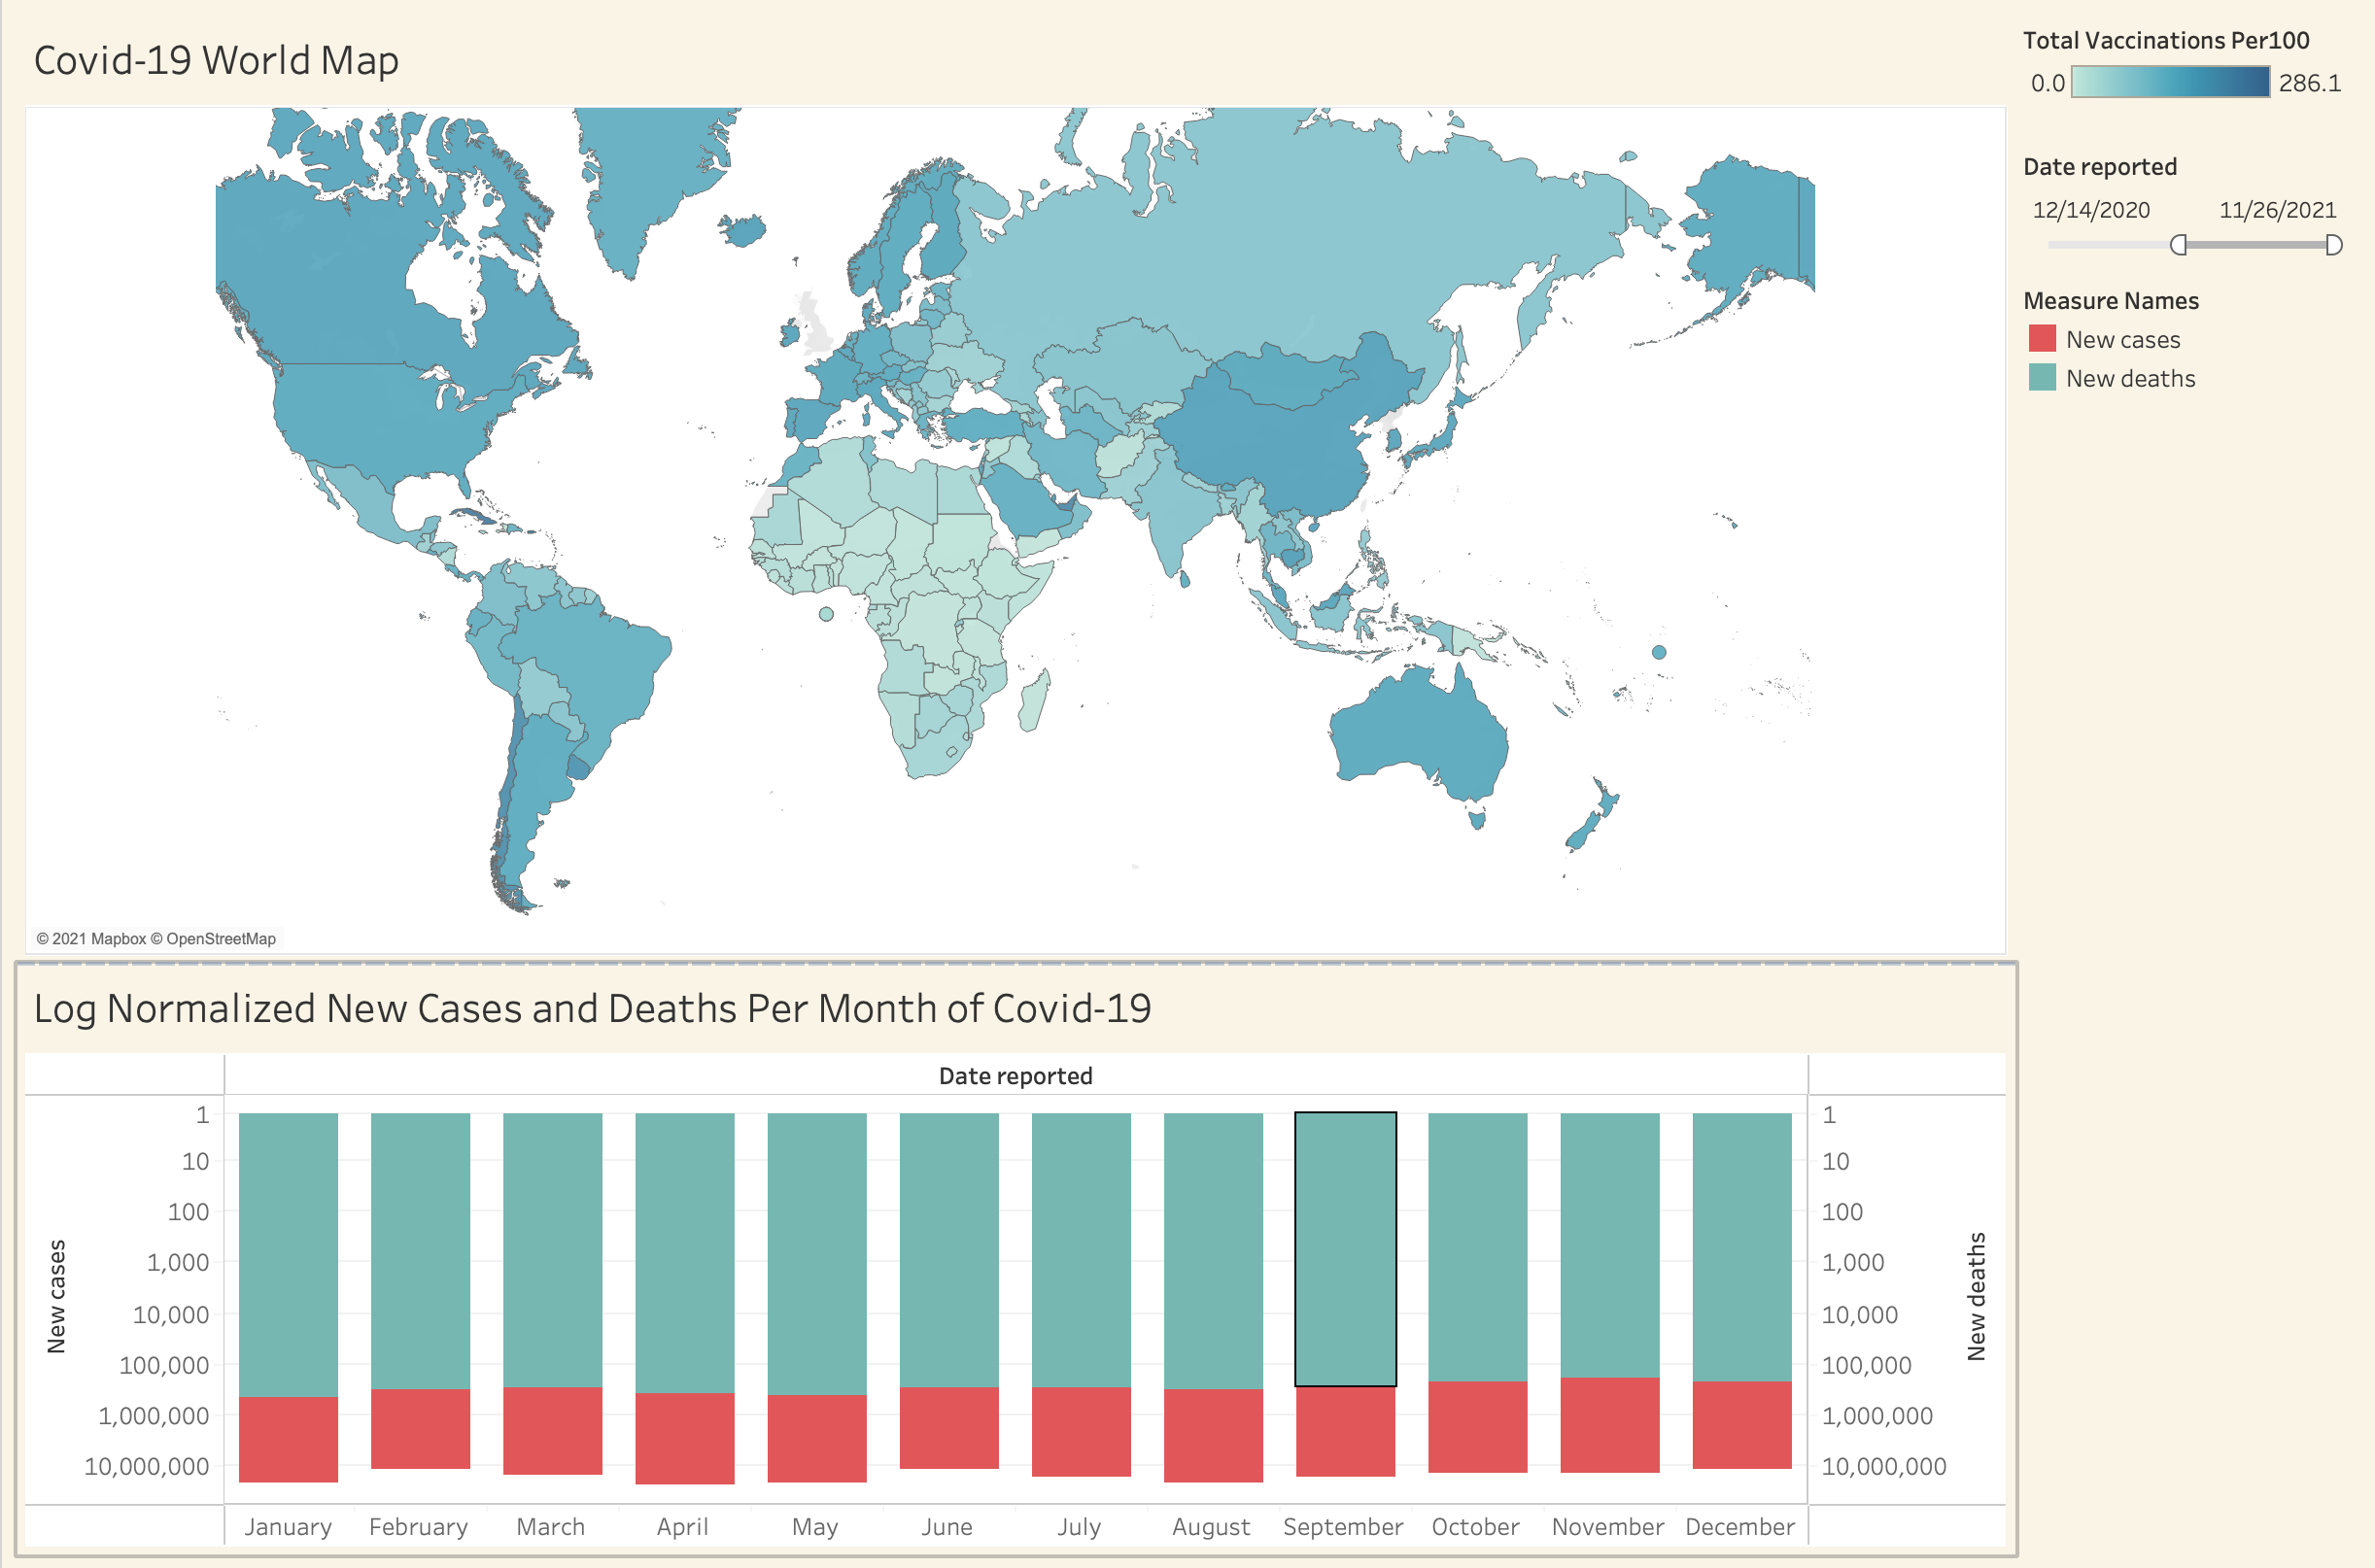

The dashboard page shown, as its layout file describes it:
{"tool":"tableau","page":{"name":"Dashboard 1","canvas":[1000,1000],"units":"permille","ordinal":0},"visuals":[{"type":"worksheet","title":"Sheet 1","mark":"Automatic","box":[6.5,9.9,843,603.9]},{"type":"legend","title":"Sheet 1","param":"[federated.1vvfp670pnrrzk1gov2pv14rkbml].[sum:TOTAL_VACCINATIONS_PER100:qk]","box":[849.5,9.9,144,80.4]},{"type":"filter","title":"Sheet 2","param":"[federated.1vvfp670pnrrzk1gov2pv14rkbml].[none:Date_reported:qk]","box":[849.5,90.3,144,85.4]},{"type":"legend","title":"Sheet 2","param":"[federated.1vvfp670pnrrzk1gov2pv14rkbml].[:Measure Names]","box":[849.5,175.7,144,81.7]},{"type":"worksheet","title":"Sheet 2","mark":"Bar","rows":["New_cases","New_deaths"],"cols":["Date_reported"],"box":[6.5,613.8,843,376.3]}]}

Visuals, with their boxes on the dashboard's canvas, which has no fixed pixel size, in thousandths of its width and height (x1, y1, x2, y2). These are canvas units, not pixel positions in the 2375x1568 screenshot, which may show the page scaled, cropped or inside an application window:
"Sheet 1" worksheet: l=6, t=10, r=850, b=614
"Sheet 1" legend: l=850, t=10, r=994, b=90
"Sheet 2" filter: l=850, t=90, r=994, b=176
"Sheet 2" legend: l=850, t=176, r=994, b=257
"Sheet 2" worksheet (Bar marks): l=6, t=614, r=850, b=990
